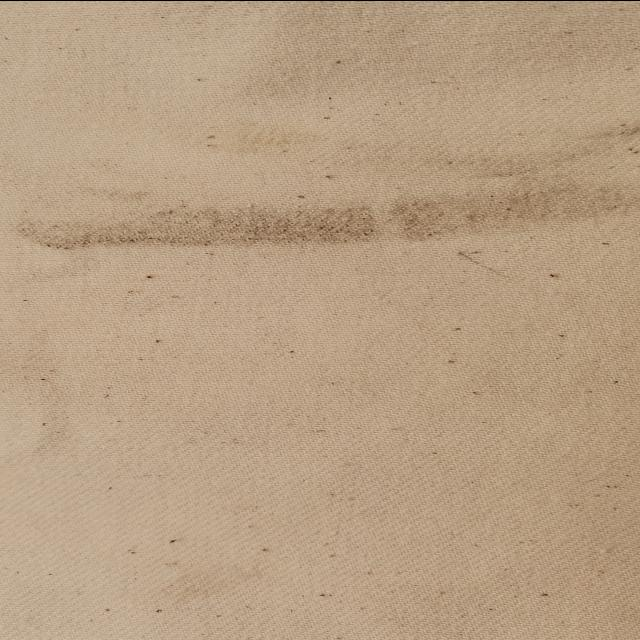taaaches: (0, 140, 637, 280), (606, 112, 640, 136)
